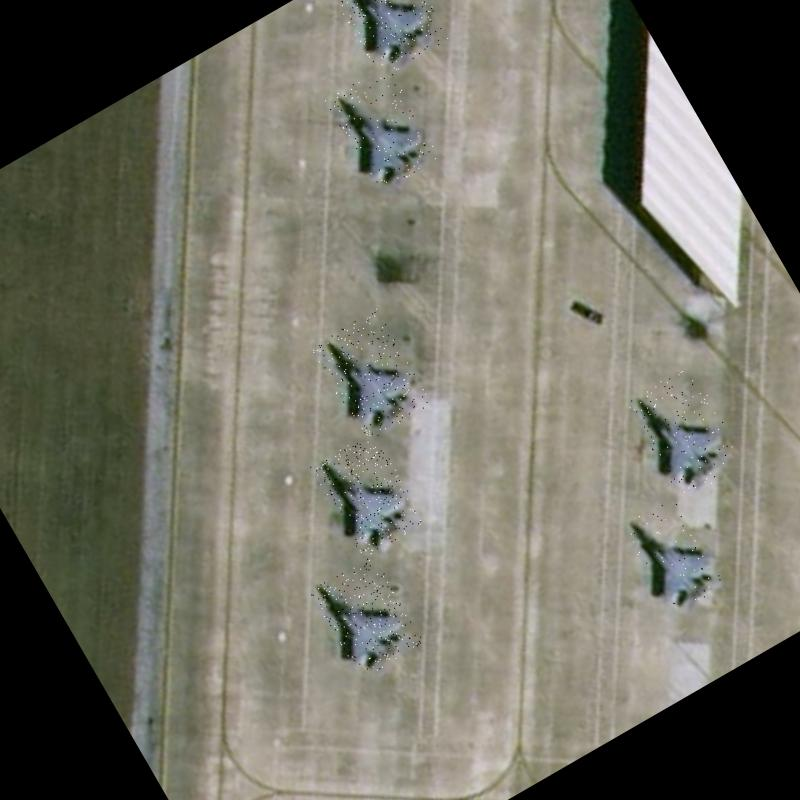A13: (625, 364, 747, 500), (310, 308, 432, 443), (325, 63, 443, 194), (310, 431, 426, 558), (309, 554, 425, 680), (622, 493, 732, 617), (326, 0, 451, 79)
